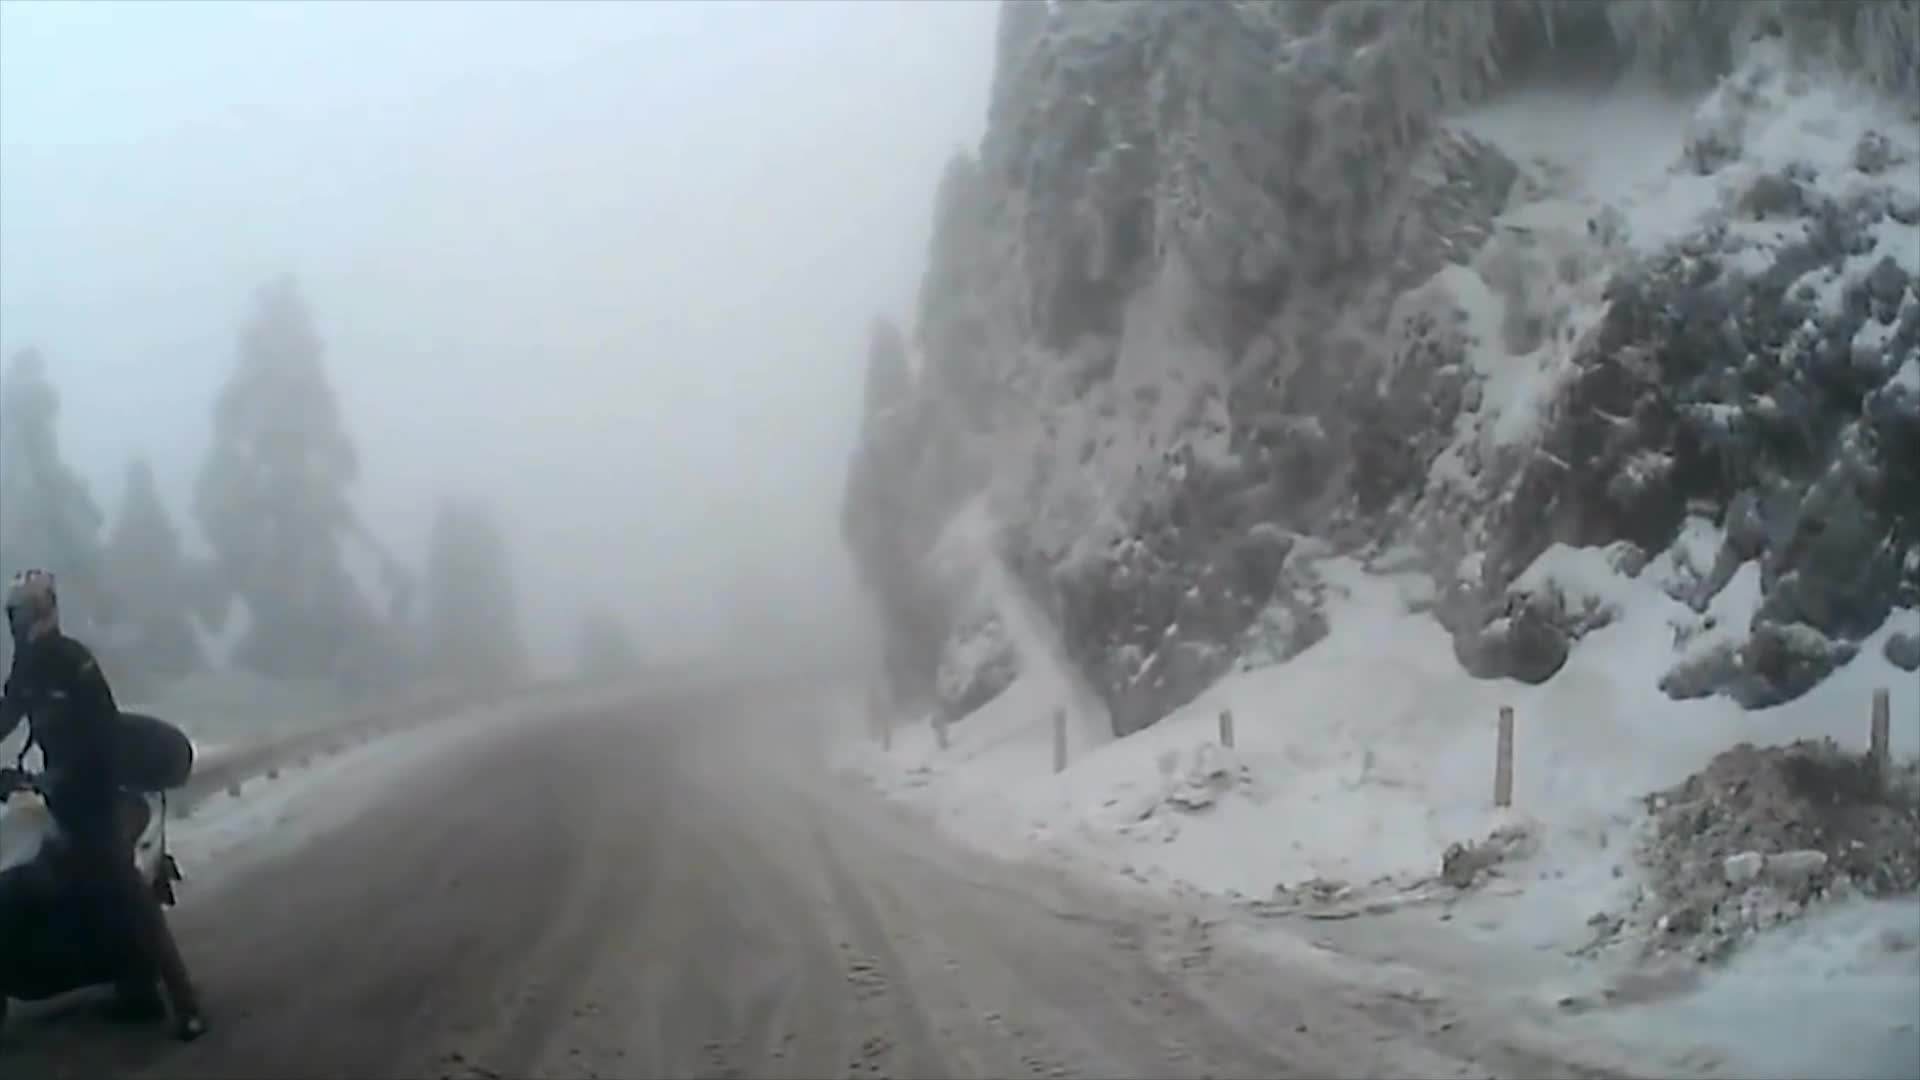pedestrian: (7, 560, 208, 1037)
